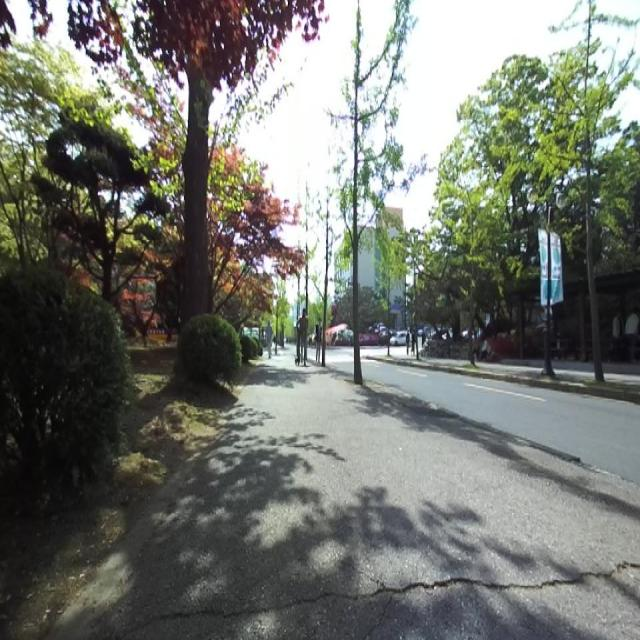sidewalk: (50, 358, 640, 640)
